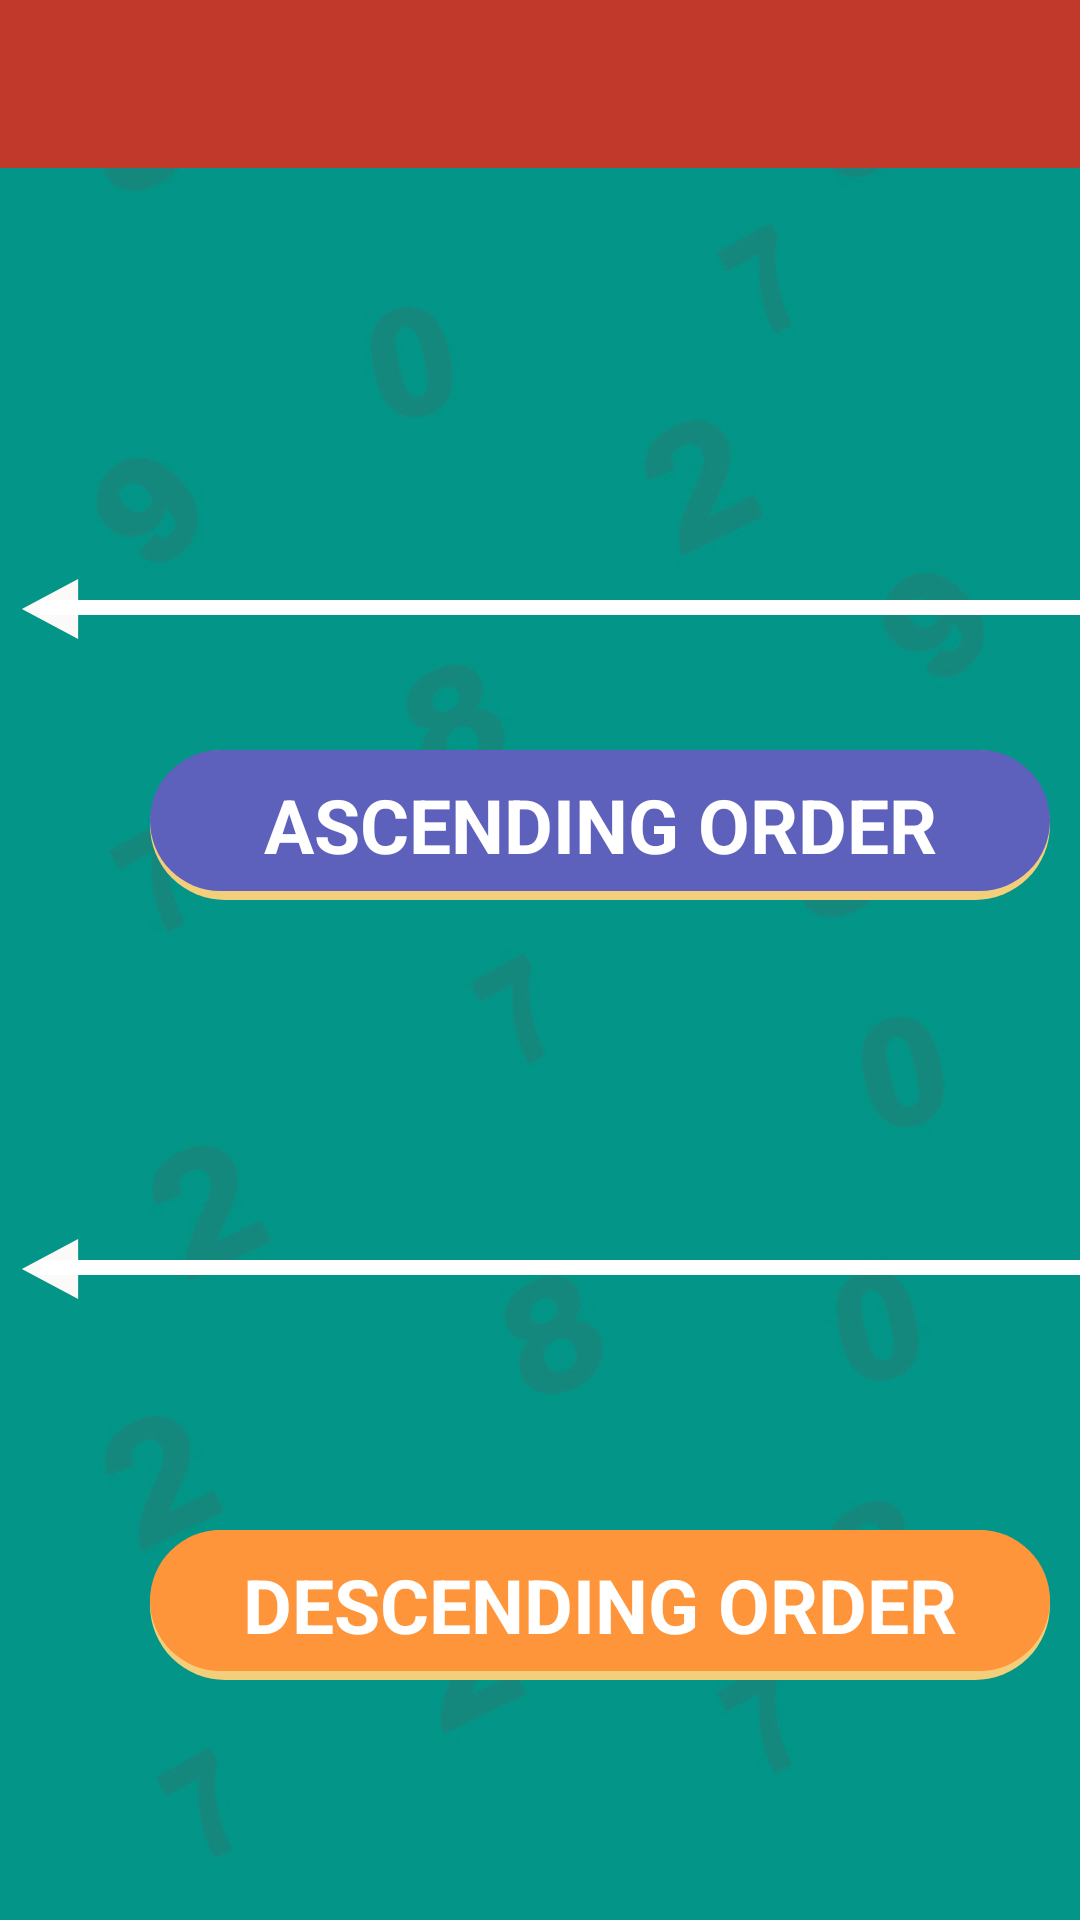

Where icons sit on this 1080 x 1920 app screen, as (x1, y1, x2, y2):
left arrow: (22, 579, 99, 639), (22, 1239, 99, 1299)
